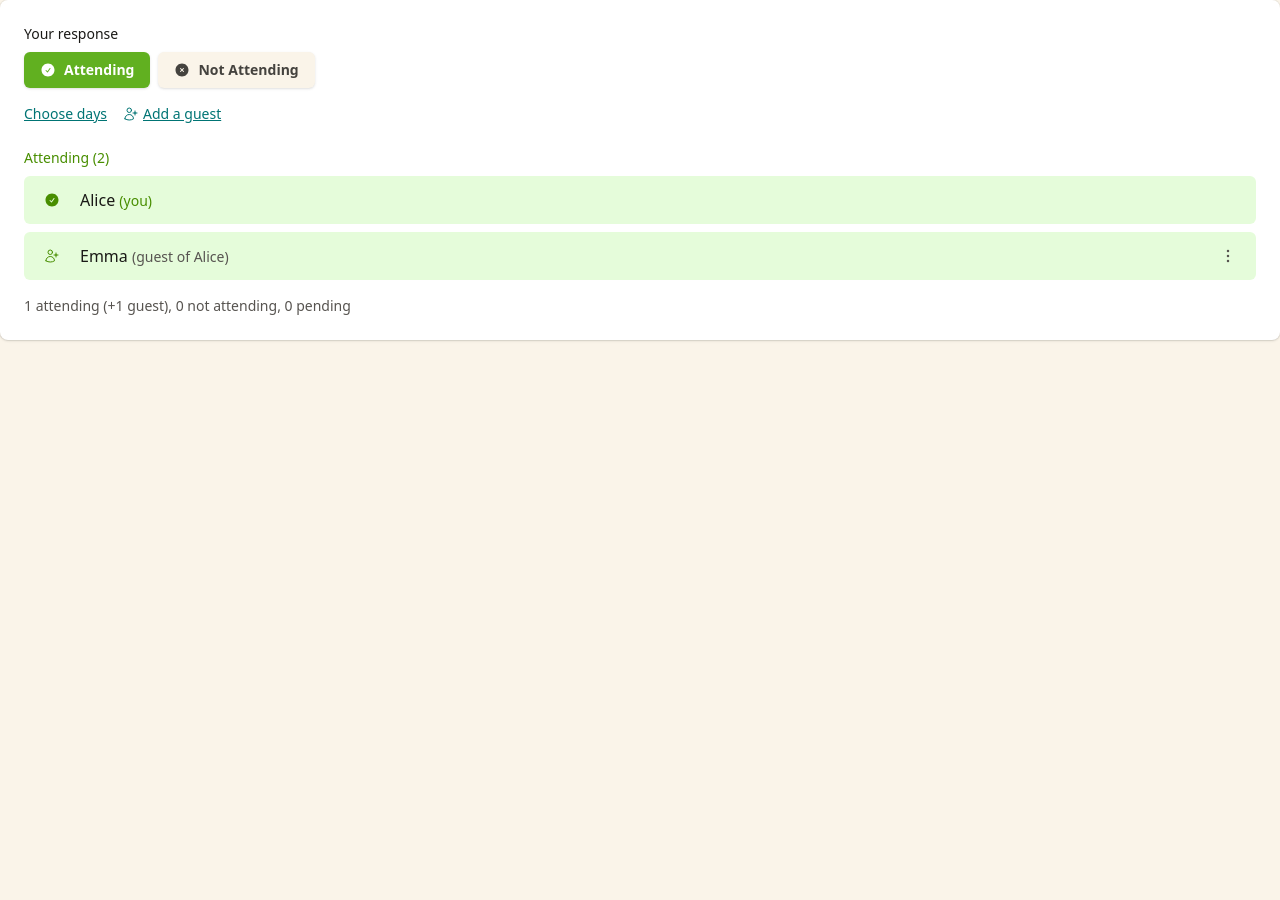
Test: RsvpSection guests › blocks declining yourself while your guests are going
Click the button with test id "rsvp-decline" at (237, 70), box [158,52,315,88]
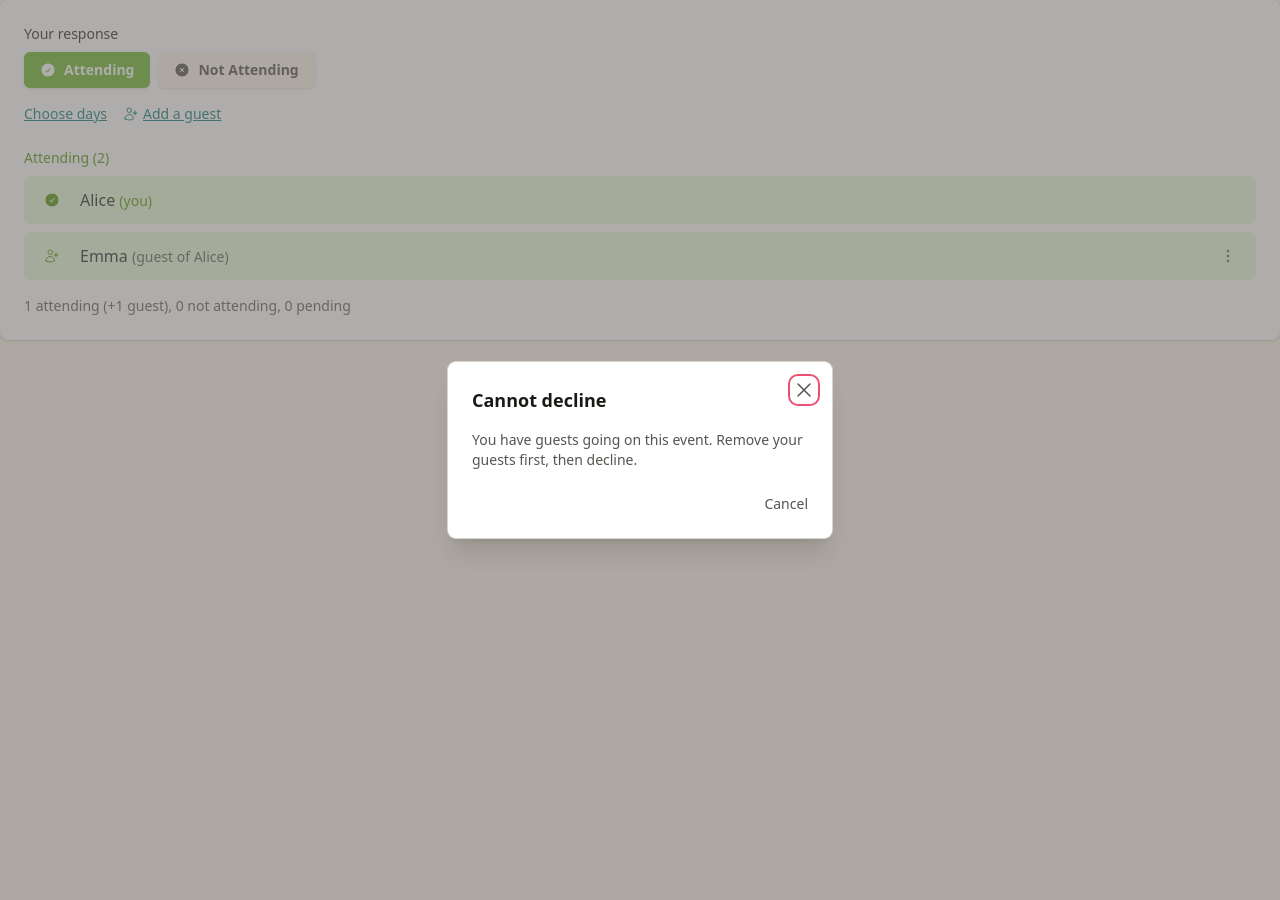
Now the text "You have guests going on this event" is shown, box [472,430,803,469]
